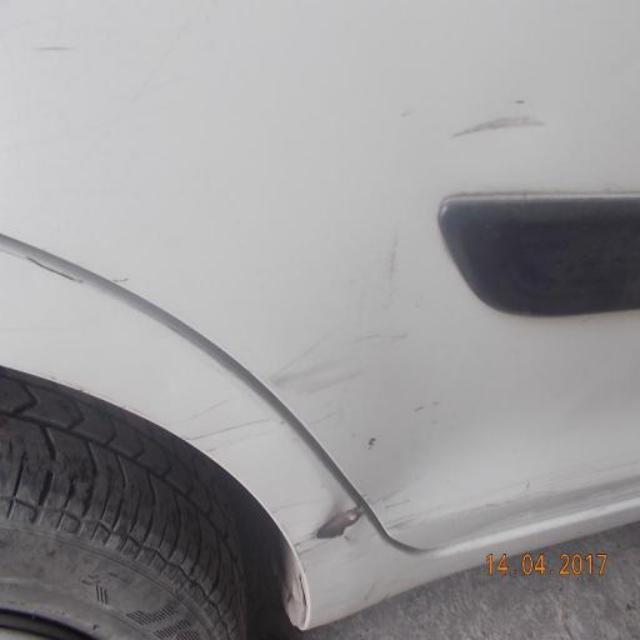crack: (311, 503, 367, 544)
rub: (263, 334, 415, 401)
scratch: (443, 103, 555, 148), (381, 228, 408, 289), (30, 36, 77, 61)
